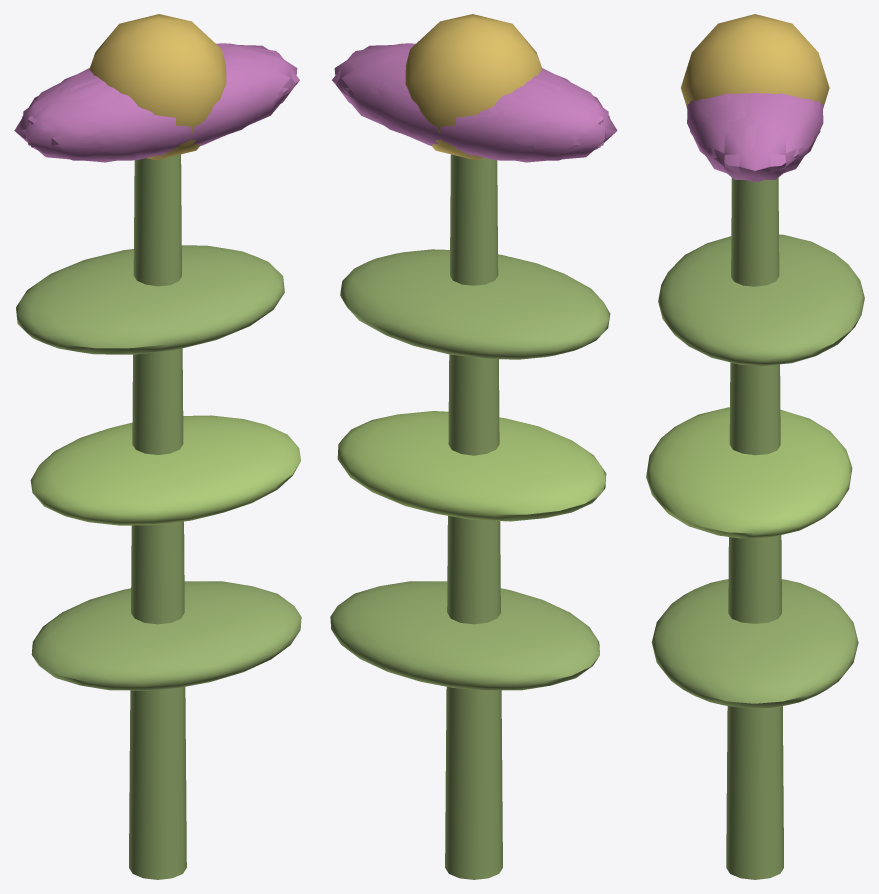
Rendered from persea-americana.glb.
3 renders of one model, left to right at view 1: azimuth 30°, elevation 25°; view 2: azimuth 150°, elevation 25°; view 3: azimuth 270°, elevation 25°, orthographic.
Parts seen in each view (by area): view 1: stem, leaf1, leaf2, leaf0, center, petal6, petal2, petal1, petal5, petal7, petal0; view 2: stem, leaf2, leaf0, leaf1, center, petal3, petal7, petal8, petal4, petal2, petal0; view 3: stem, leaf1, leaf0, leaf2, center, petal0, petal5, petal4, petal1, petal8.
Boxes of the visible parts, x1,y1,x2,y2 form: stem: (129, 154, 186, 879); leaf1: (30, 415, 300, 525); leaf2: (16, 245, 284, 354); leaf0: (31, 581, 301, 690); center: (89, 14, 226, 160); petal6: (30, 80, 213, 160); petal2: (23, 75, 163, 162); petal1: (95, 60, 283, 158); petal5: (153, 51, 299, 151); petal7: (14, 70, 107, 154); petal0: (220, 45, 297, 118); stem: (445, 154, 502, 879); leaf2: (340, 249, 610, 359); leaf0: (330, 581, 599, 690); leaf1: (337, 411, 606, 521); center: (405, 14, 542, 160); petal3: (418, 80, 600, 160); petal7: (468, 75, 608, 162); petal8: (348, 60, 536, 158); petal4: (332, 51, 478, 151); petal2: (524, 70, 617, 154); petal0: (334, 45, 411, 135); stem: (726, 178, 783, 879); leaf1: (646, 407, 852, 538); leaf0: (651, 579, 858, 708); leaf2: (658, 234, 864, 365); center: (681, 14, 829, 105); petal0: (700, 92, 809, 179); petal5: (690, 93, 766, 182); petal4: (744, 93, 820, 182); petal1: (687, 93, 733, 156); petal8: (777, 93, 823, 156).
Bounding box in the file's own units: 0.1541 × 0.4519 × 0.1058.
